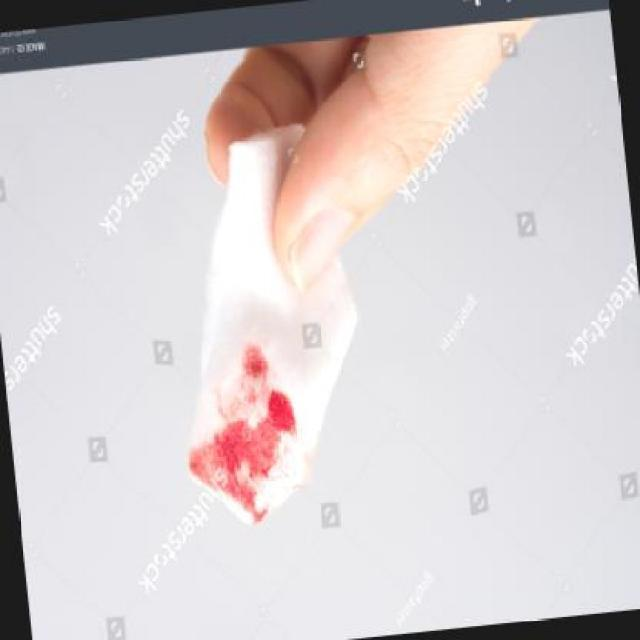wound: (168, 353, 318, 511)
